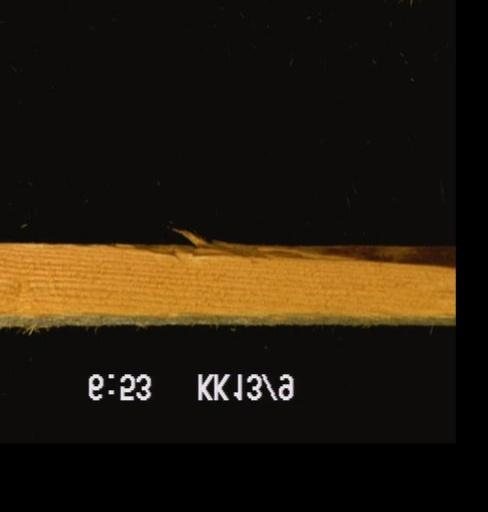wave: (93, 226, 454, 279)
